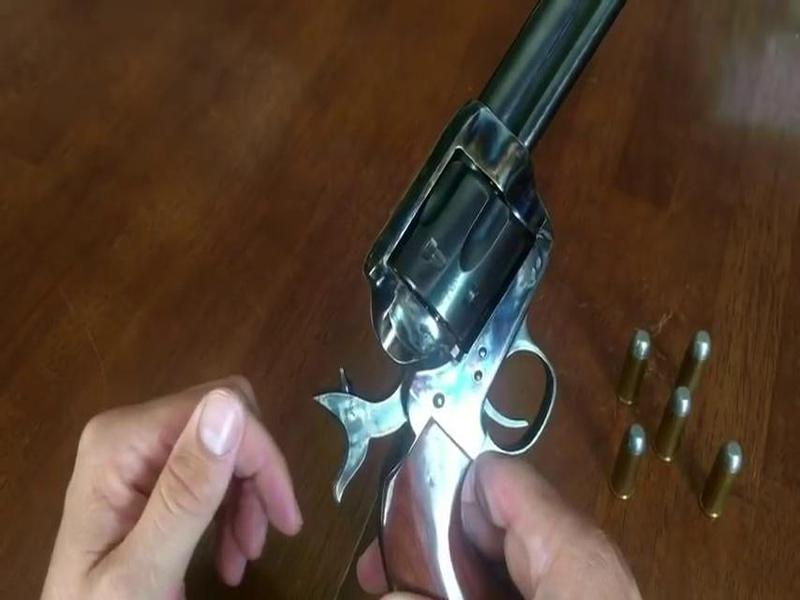Revolver: (348, 1, 649, 600)
